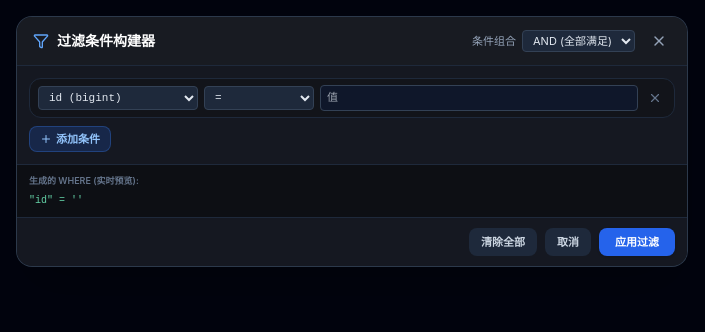
Scenario: WP10: FilterBuilder 组件 (列自动带出 + 类型感知) › 添加多条件 + OR 组合 → 预览正确
Select "status (text) — 订单状态" in the dropdown named "过滤列" at (118, 98), box [38,86,198,110]
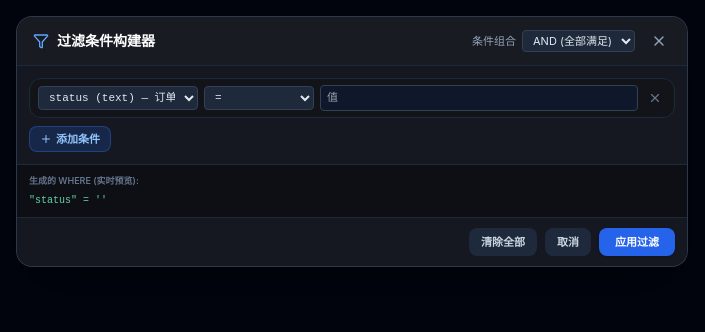
Type "new" into the field named "过滤值".
click(479, 98); type("new")  # box [320,85,638,111]
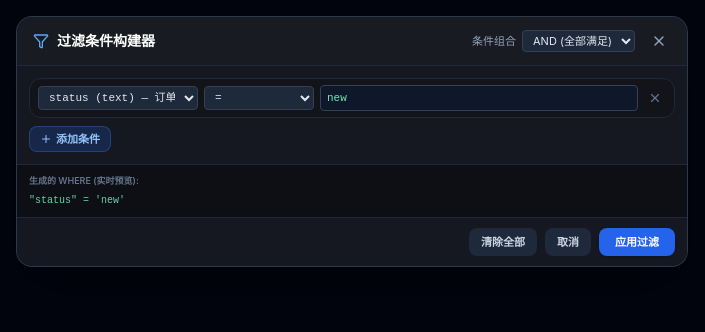
Click the button with test id "fb-add-row".
click(70, 139)  # box [29,126,111,152]
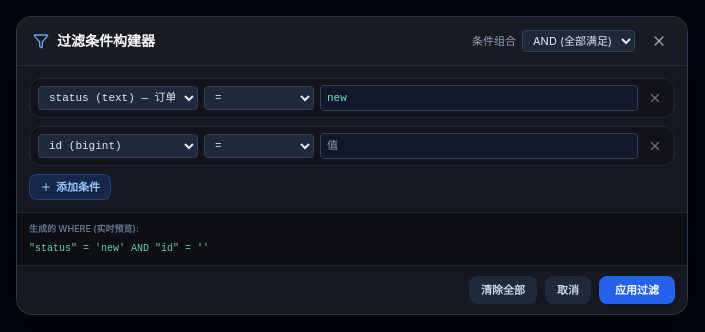
Select "status (text) — 订单状态" in the 2nd dropdown named "过滤列" at (118, 146), box [38,134,198,158]
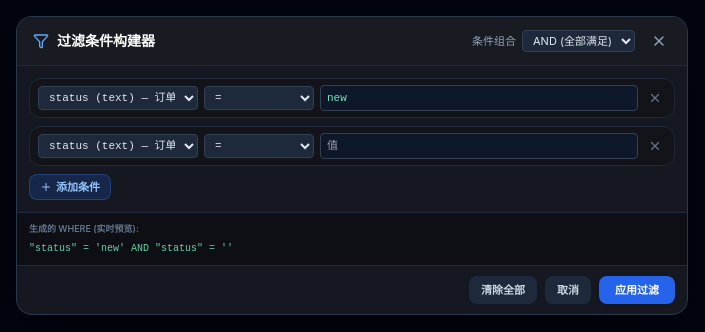
Type "paid" into the field named "过滤值".
click(479, 146); type("paid")  # box [320,133,638,159]
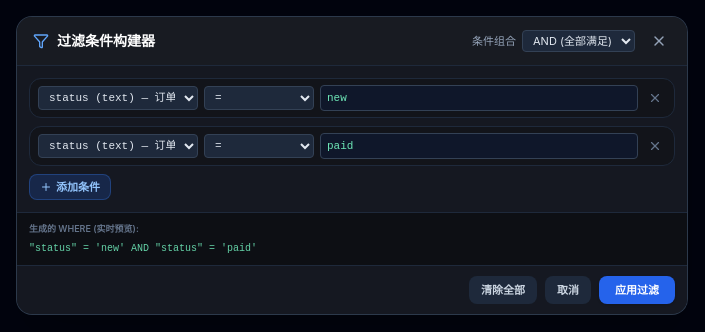
Select "OR (任一满足)" in the dropdown with test id "fb-combinator" at (578, 41), box [522,30,635,52]
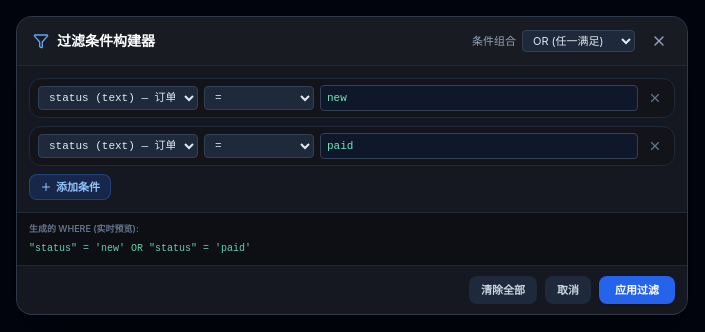
Now the text with test id "fb-preview" reads "\"status\" = 'new' OR \"status\" = 'paid'", box [29,243,251,254]
